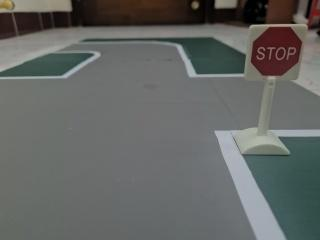stop: (247, 22, 305, 82)
